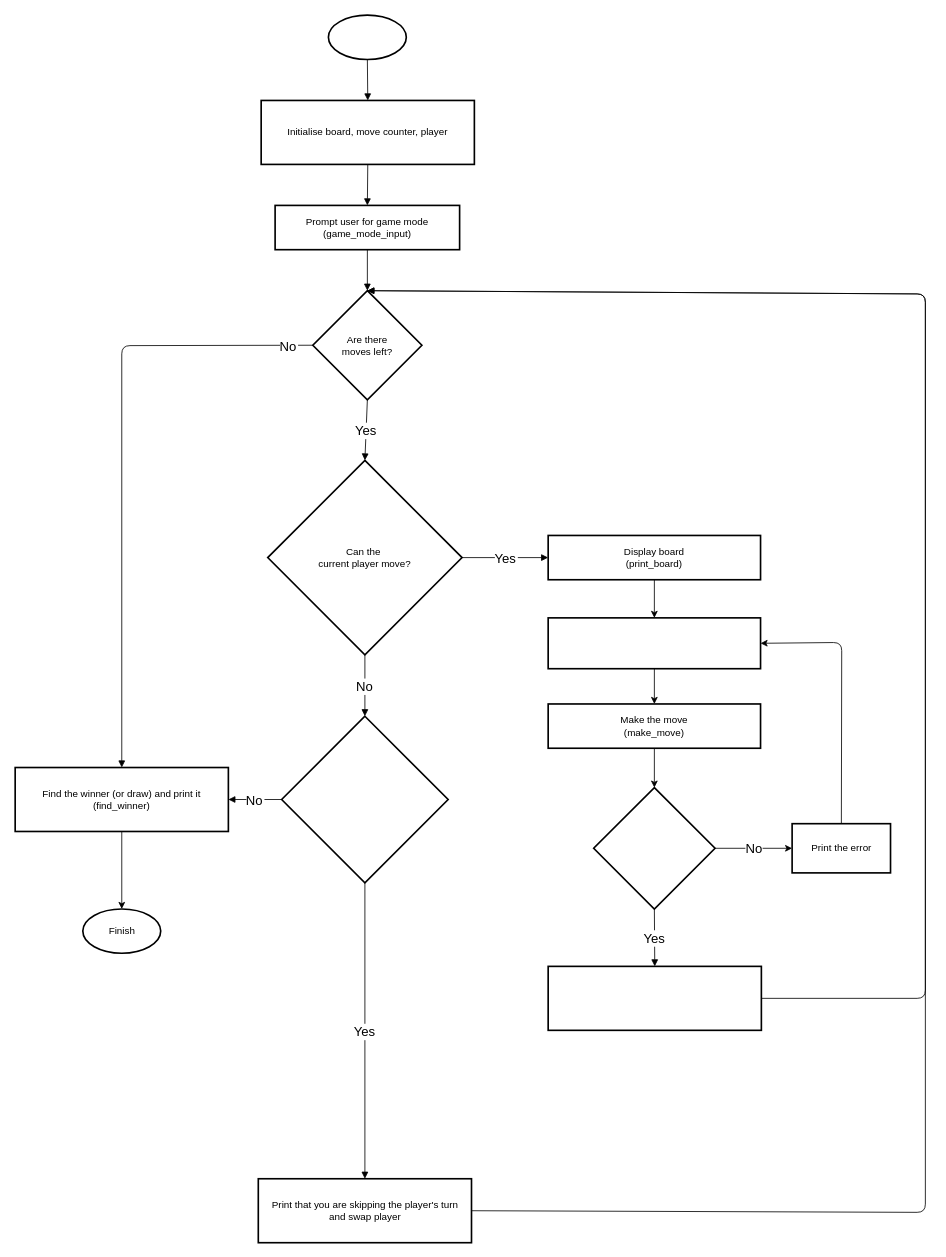
This 946x1257 diagram has some shape labels left out. The centre of each missing label's shape, as x and y in pixels:
Can the opponent move?: the point at 364,799
Decrement moves and swap player: the point at 654,998
Get move from the current player, or from the AI (cli_coords_input, get_ai_move): the point at 654,643
Is the move valid?: the point at 653,847
Start: the point at 367,37
